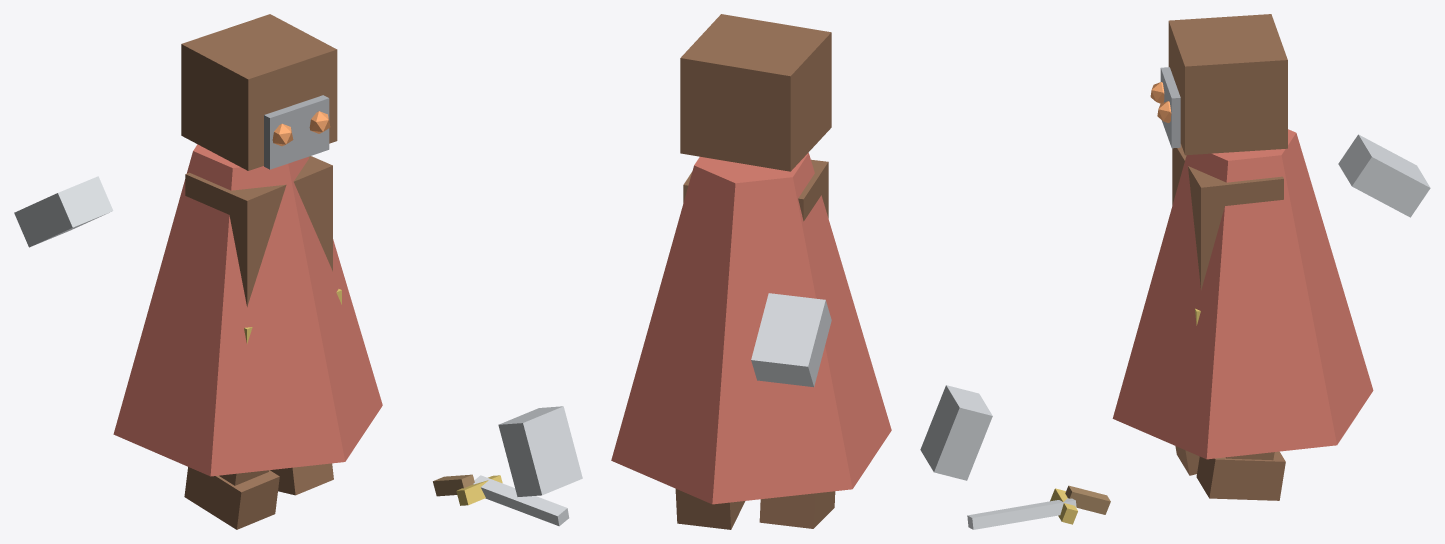
Rendered from npcpose_raider_attack_06.glb.
3 views of the same model, side by side, from view 1: azimuth 30°, elevation 25°; view 2: azimuth 150°, elevation 25°; view 3: azimuth 270°, elevation 25° (orthographic). The views are drawn at different scales.
Visible parts, largest first — view 1: npcpose; view 2: npcpose; view 3: npcpose.
Boxes of the visible parts, left/top/right/bottom form: npcpose: left=14, top=14, right=582, bottom=529; npcpose: left=611, top=14, right=891, bottom=529; npcpose: left=920, top=14, right=1430, bottom=529.
Size of the model in its own units: 1.19 by 1.58 by 1.67.
